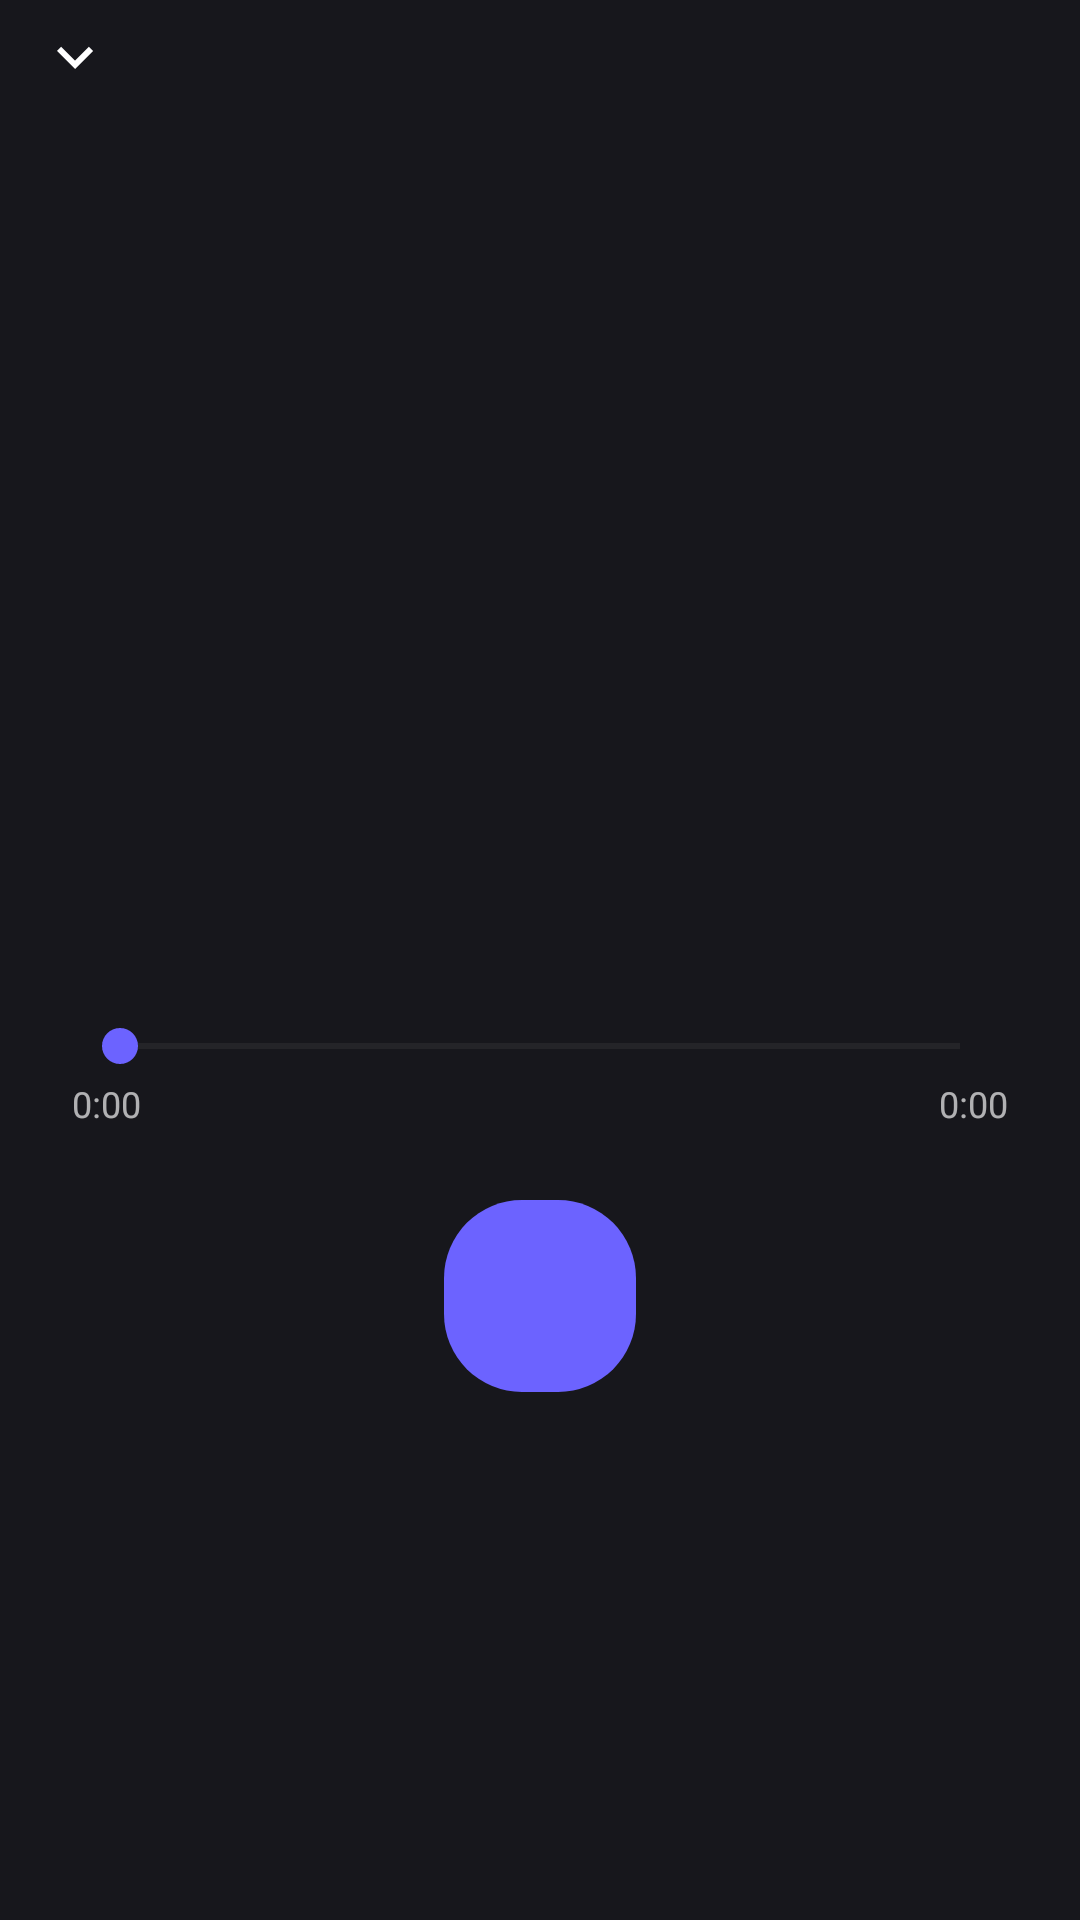

Icon click points for this 1080w x 1920h phone screenshot, format (x=x, y=y):
Back: (x=75, y=58)
